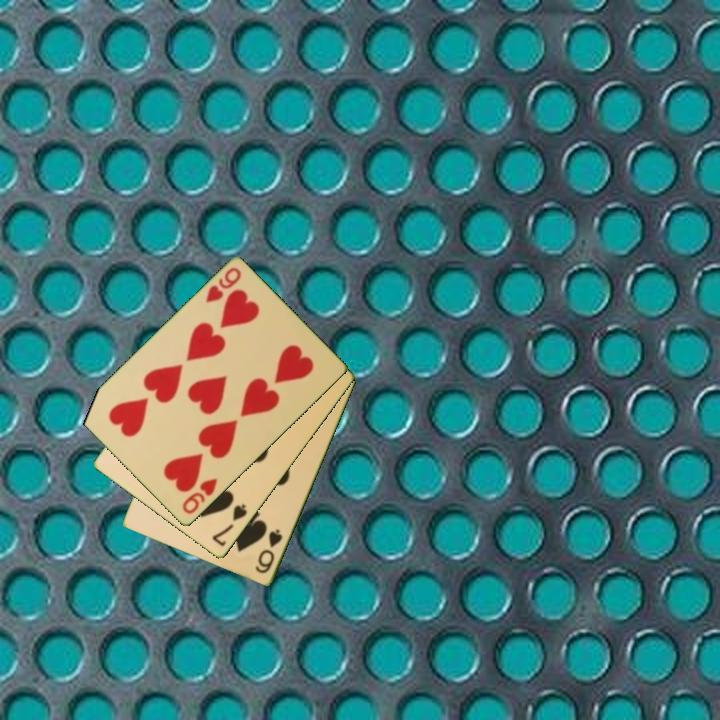6s: (252, 526, 286, 577)
7s: (208, 500, 250, 550)
9h: (179, 475, 221, 518), (202, 264, 244, 306)
